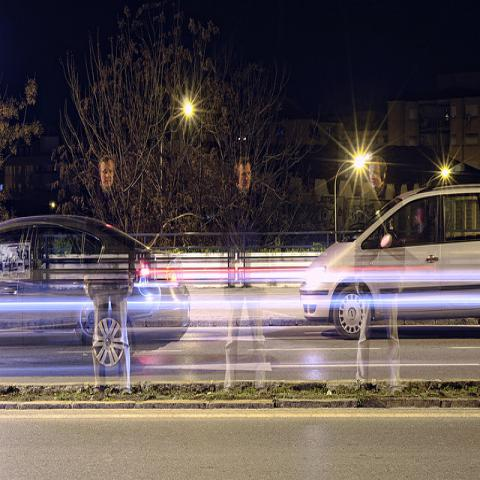car: (2, 216, 192, 369), (300, 180, 479, 342)
